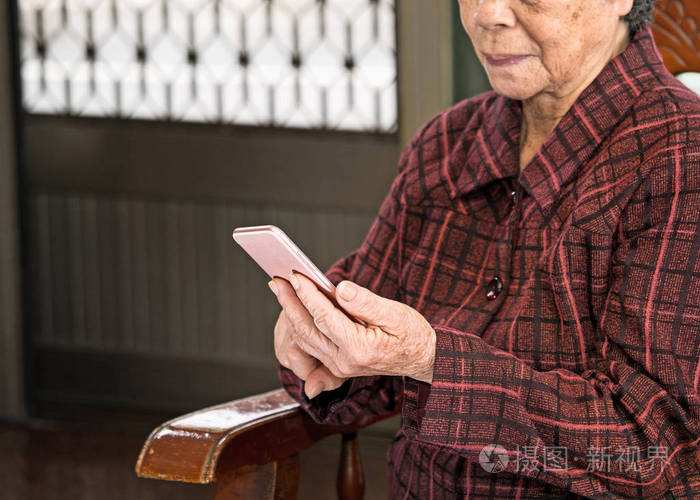reading: (228, 223, 432, 396)
